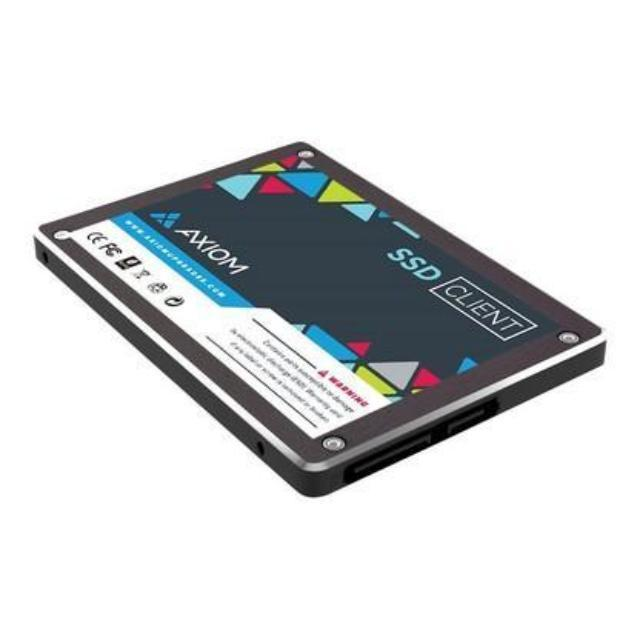DISK: (26, 130, 609, 498)
